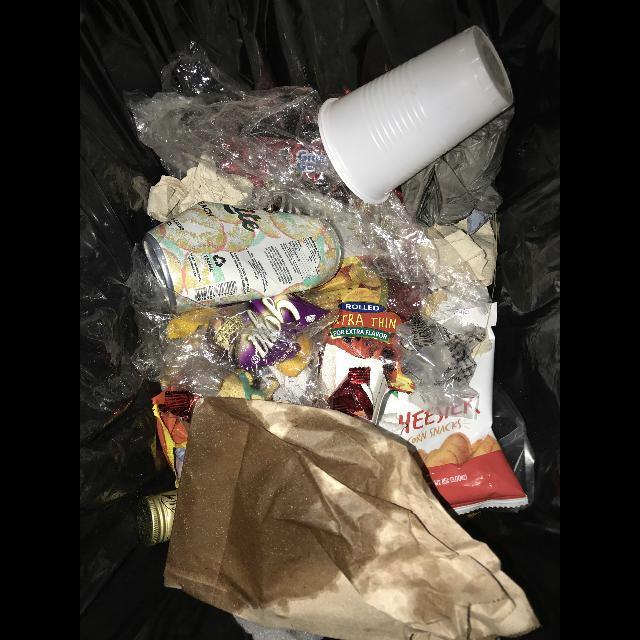aluminum: (144, 202, 343, 312)
food_wrapper: (378, 303, 529, 515), (292, 257, 415, 393), (167, 295, 330, 367)
paper: (163, 397, 541, 640)
plastic_bag: (124, 40, 489, 312)
plastic_container: (317, 26, 515, 205)
